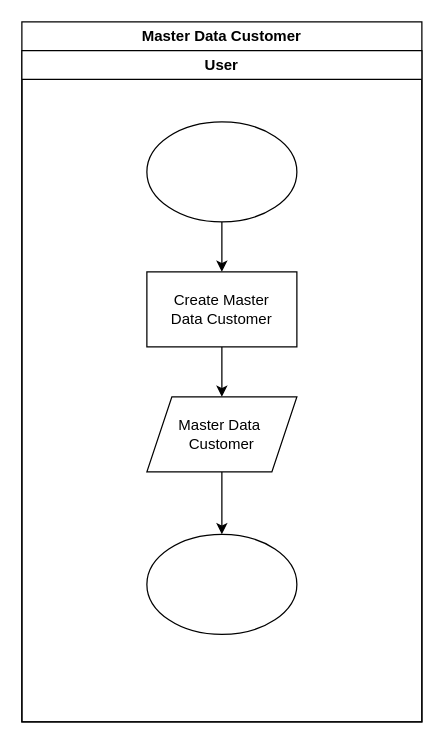
This 444x744 diagram has some shape labels left out. The box of each missing label's shape, as (x1, y1, x2, y2) in pixels:
End: (146, 533, 297, 634)
Start: (146, 121, 297, 222)
